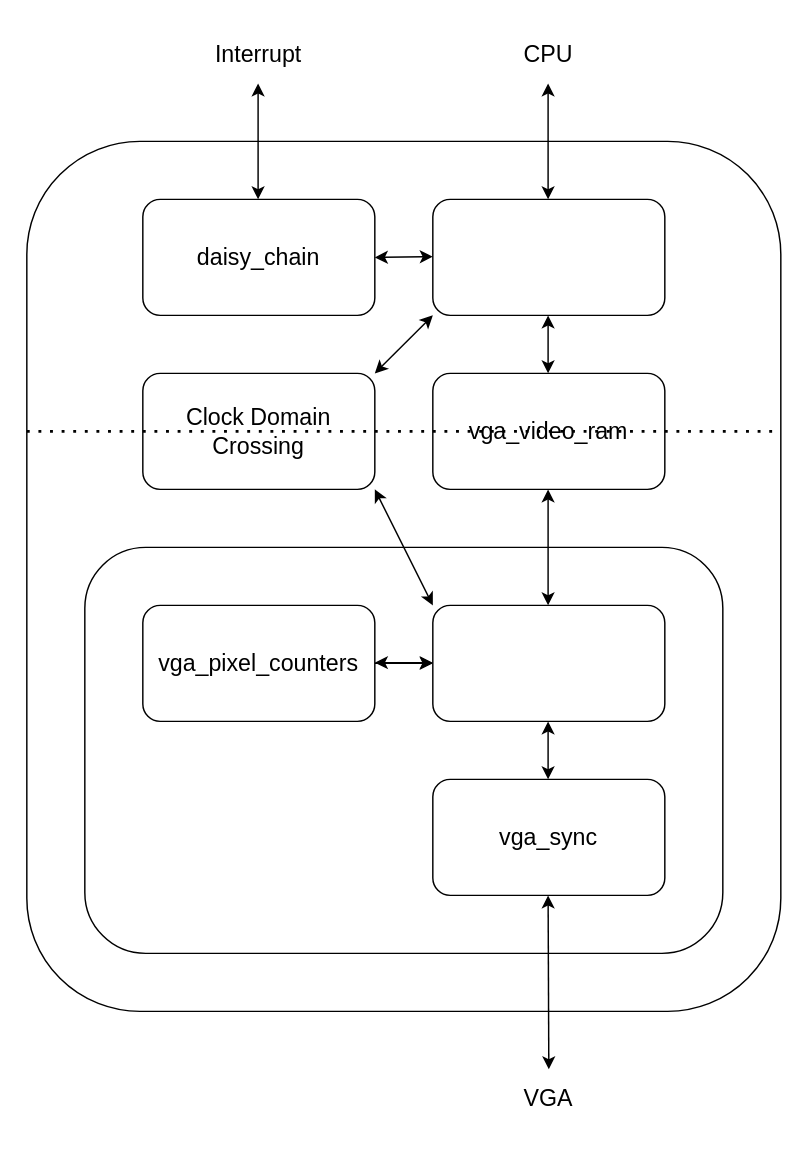
The diagram is 808 pixels wide and 1151 high, and some of its shapes have lost their labels. Each missing label, with the box of its shape:
vga_output: (83, 546, 723, 953)
vga_registers: (431, 198, 665, 315)
vga_text_mode: (431, 604, 665, 721)
